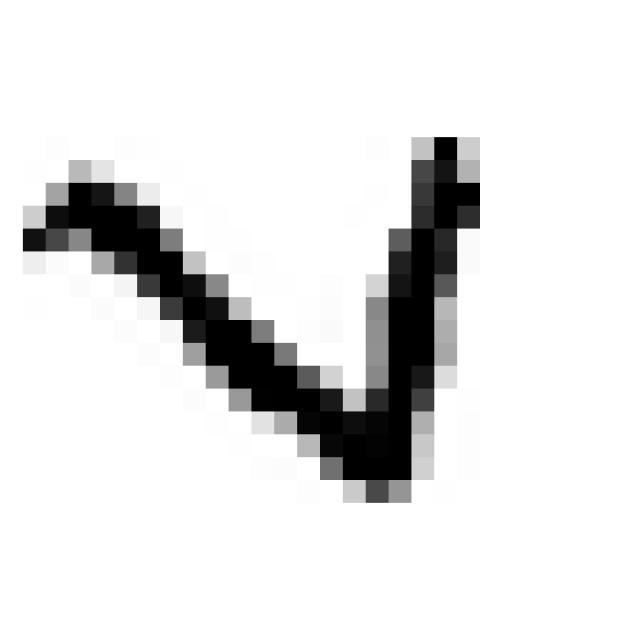7 -seven-: (18, 124, 498, 522)
